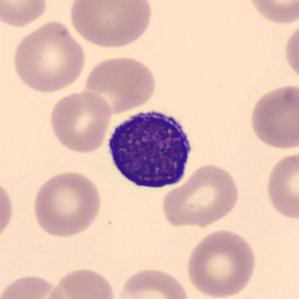Lymphocyte: (102, 103, 198, 194)
RBC: (10, 18, 87, 95), (160, 162, 242, 229), (184, 227, 258, 299), (30, 169, 104, 239), (81, 54, 158, 115), (66, 0, 155, 50), (48, 88, 113, 155), (247, 82, 298, 150), (114, 265, 192, 299), (44, 265, 118, 299), (264, 148, 298, 222), (0, 272, 68, 299), (0, 0, 49, 29), (244, 0, 298, 26), (282, 20, 299, 85), (0, 176, 15, 246)
